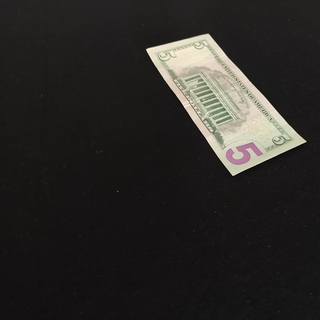5USDBack: (146, 33, 307, 176)
